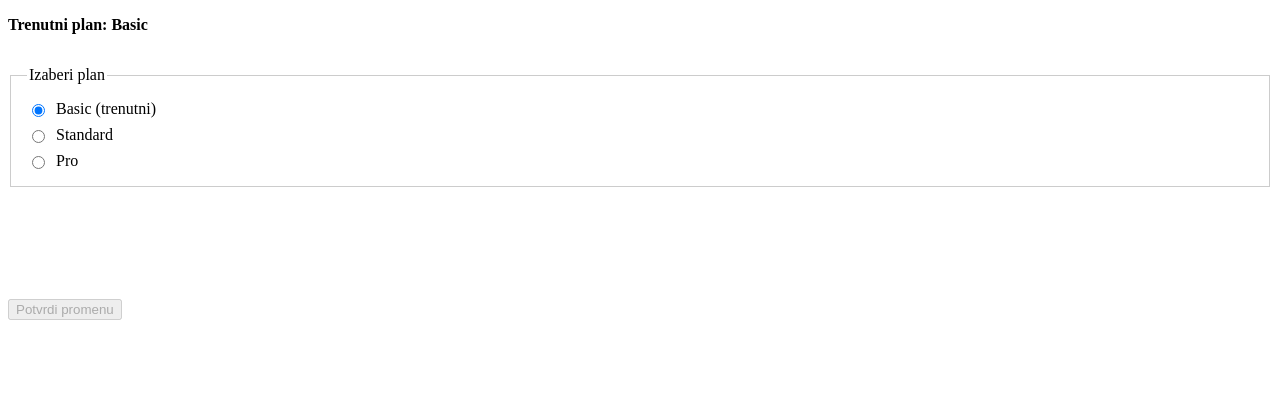
Test: PlanChangePage › A/B: late response for A does not replace B
Expected: the text "Trenutni plan: Basic" is shown, [8,16,148,33]
Click the radio button labelled "Standard" at (38, 136), box [32,130,45,143]
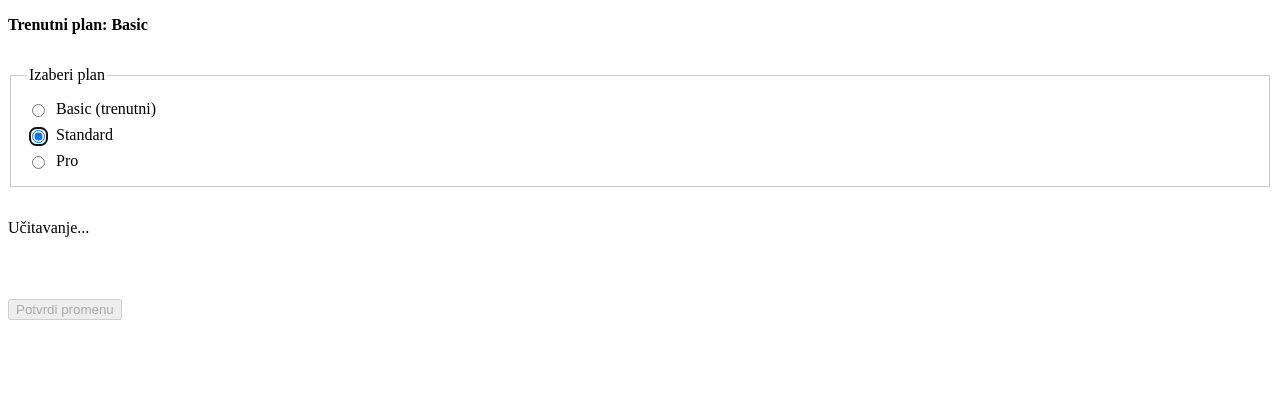
Click the radio button labelled "Pro" at (38, 162), box [32,156,45,169]
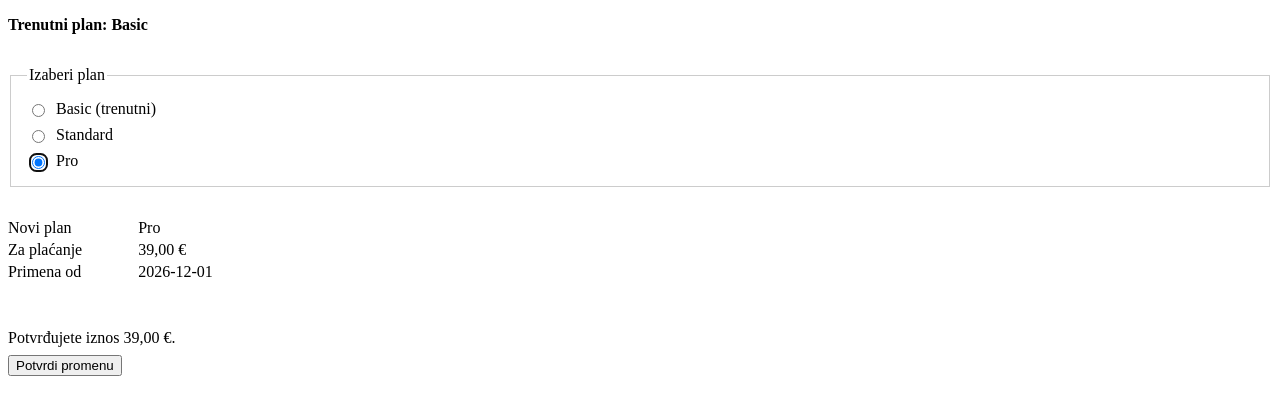
Click the button "Potvrdi promenu" at (65, 366), box [8,355,122,376]
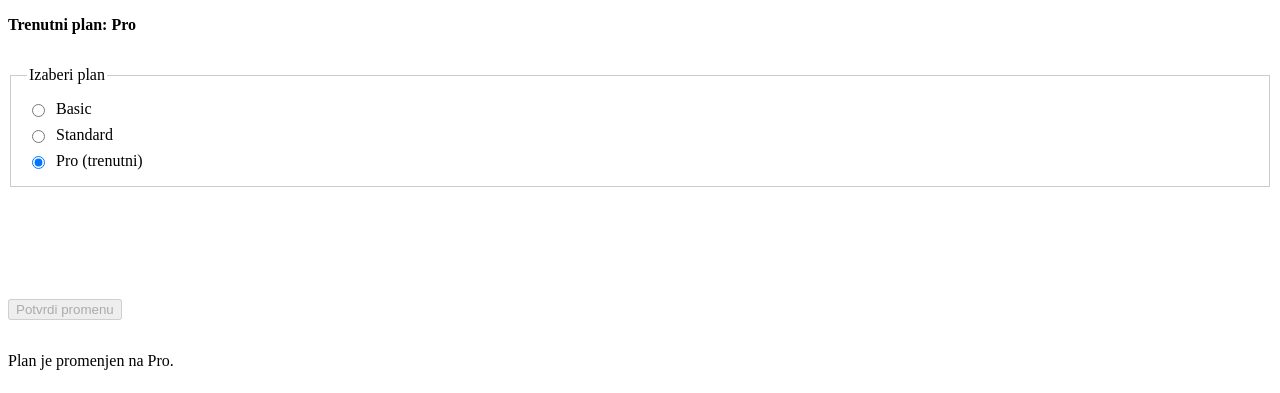
Result: the text "Plan je promenjen na Pro." is shown at [8,352,174,369]
